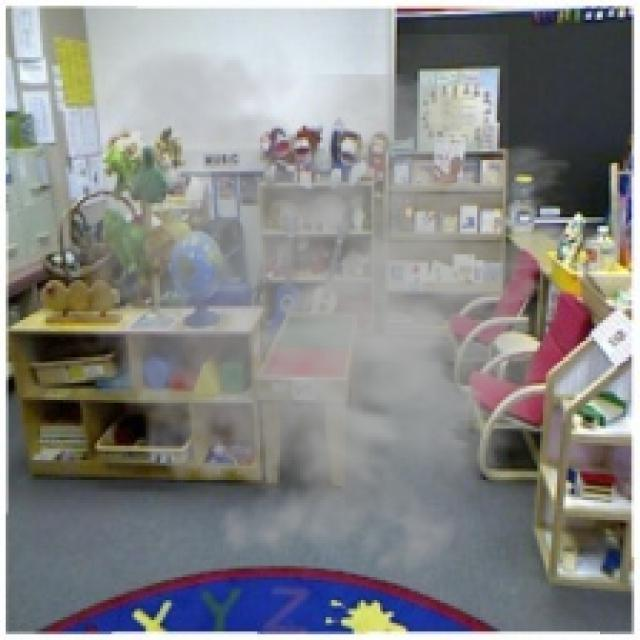smoke: (40, 34, 609, 592)
